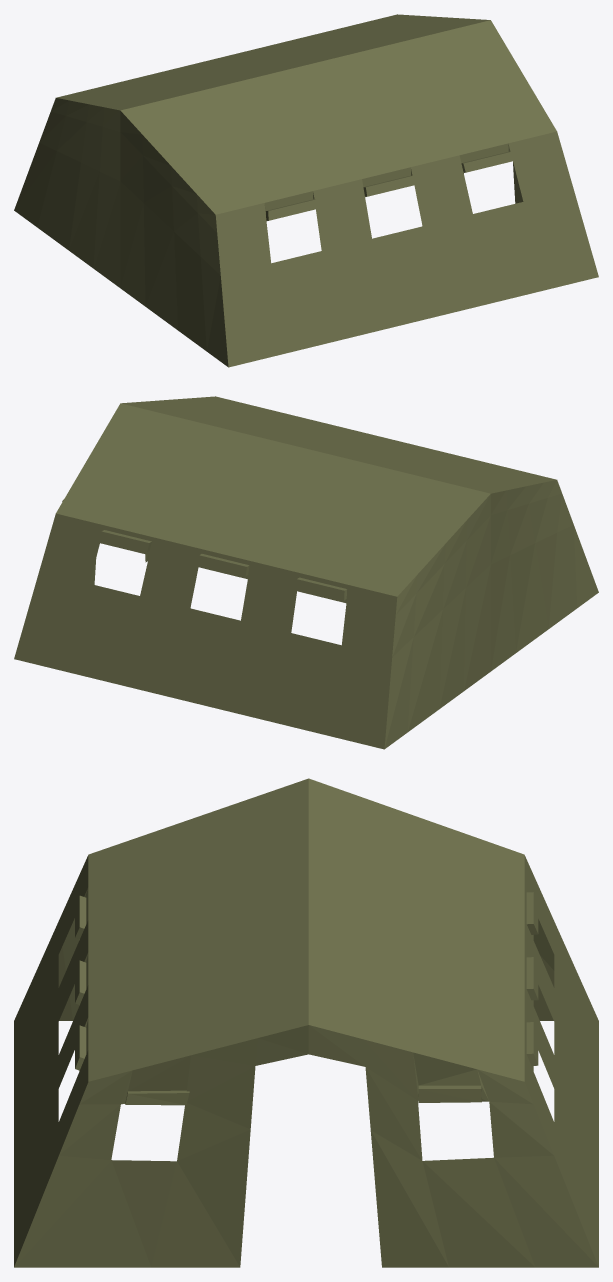
The model's file is tent.fbx.
The picture shows the model from 3 angles, top to bottom: view 1: azimuth 30°, elevation 25°; view 2: azimuth 150°, elevation 25°; view 3: azimuth 270°, elevation 25°; orthographic projection. The views are drawn at different scales.
Visible parts, largest first — view 1: pCube1; view 2: pCube1; view 3: pCube1.
Part boxes in pixels (box(x1,y1,x2,y2)): pCube1: box(14, 14, 598, 367); pCube1: box(14, 396, 598, 749); pCube1: box(14, 778, 598, 1267).
Bounding box in the file's own units: 5.42 × 2.49 × 5.43.
